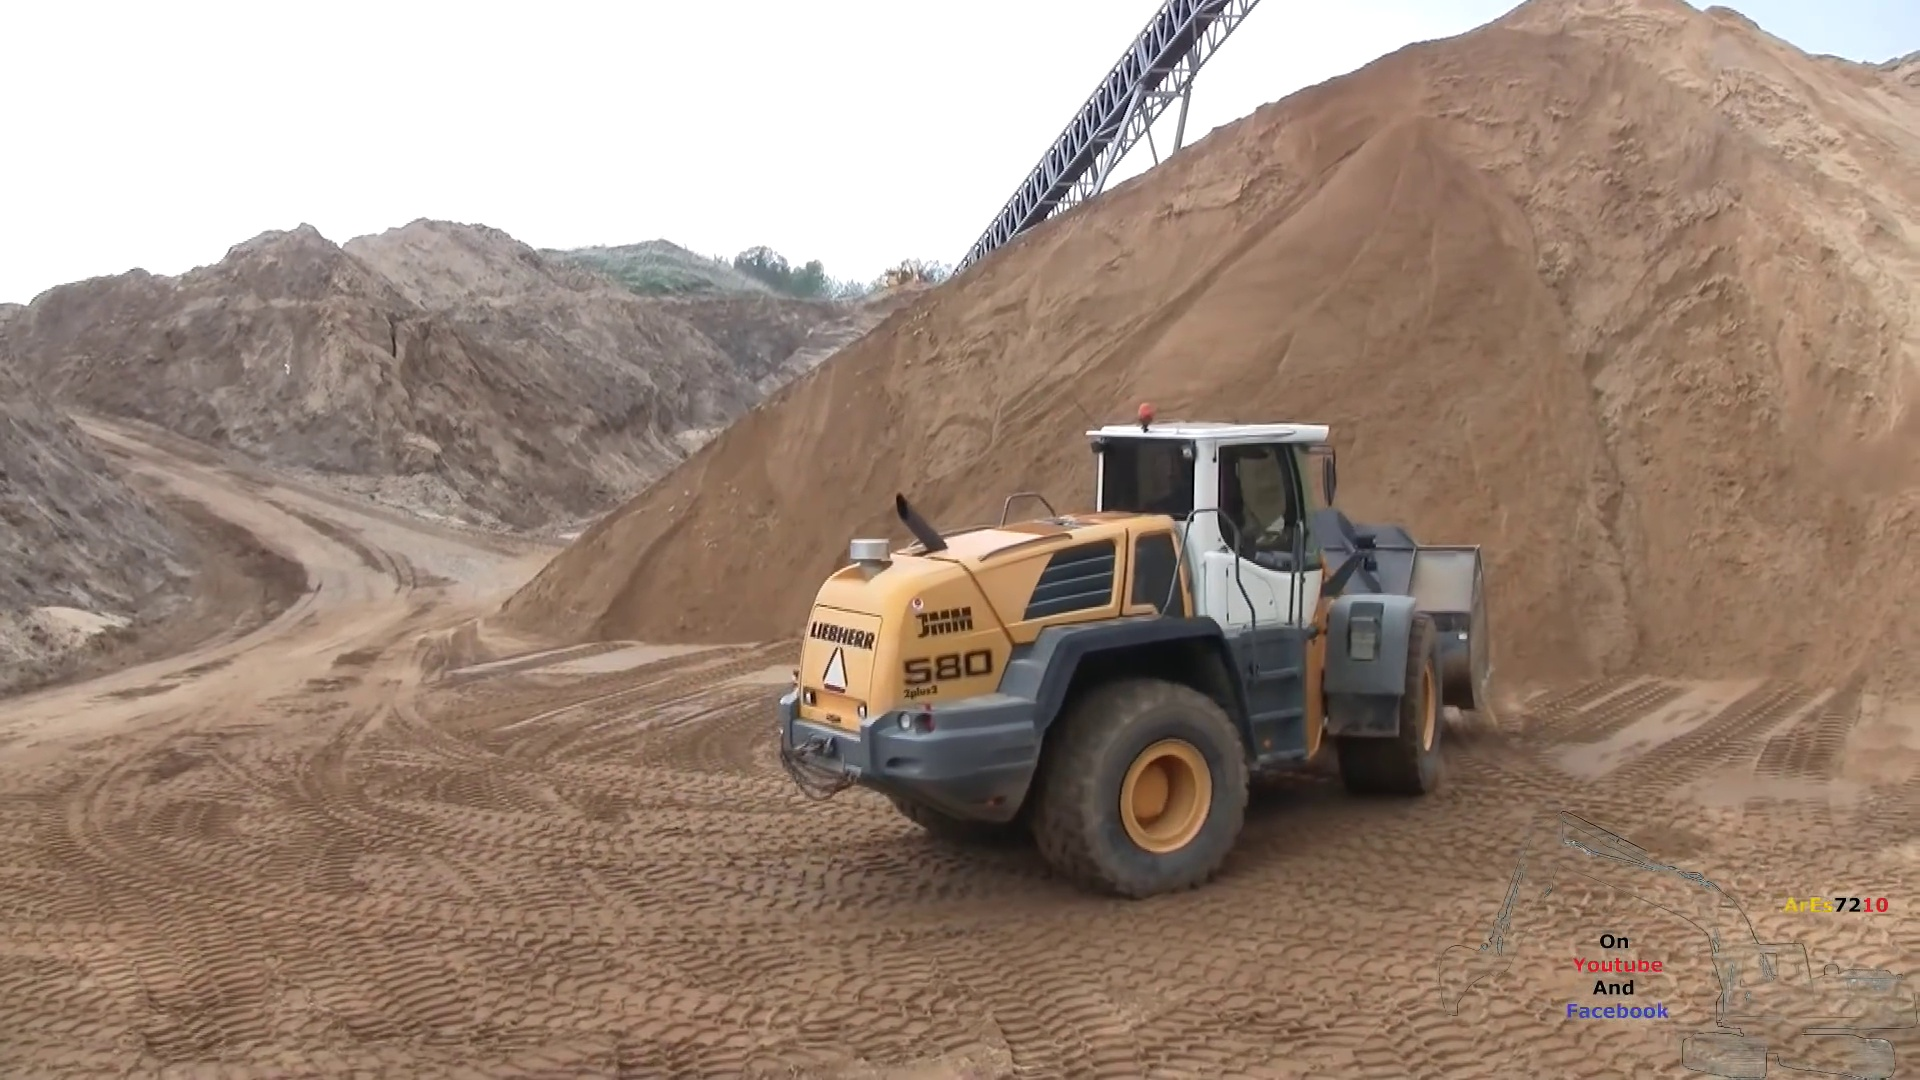wheel loader: (779, 418, 1501, 891)
